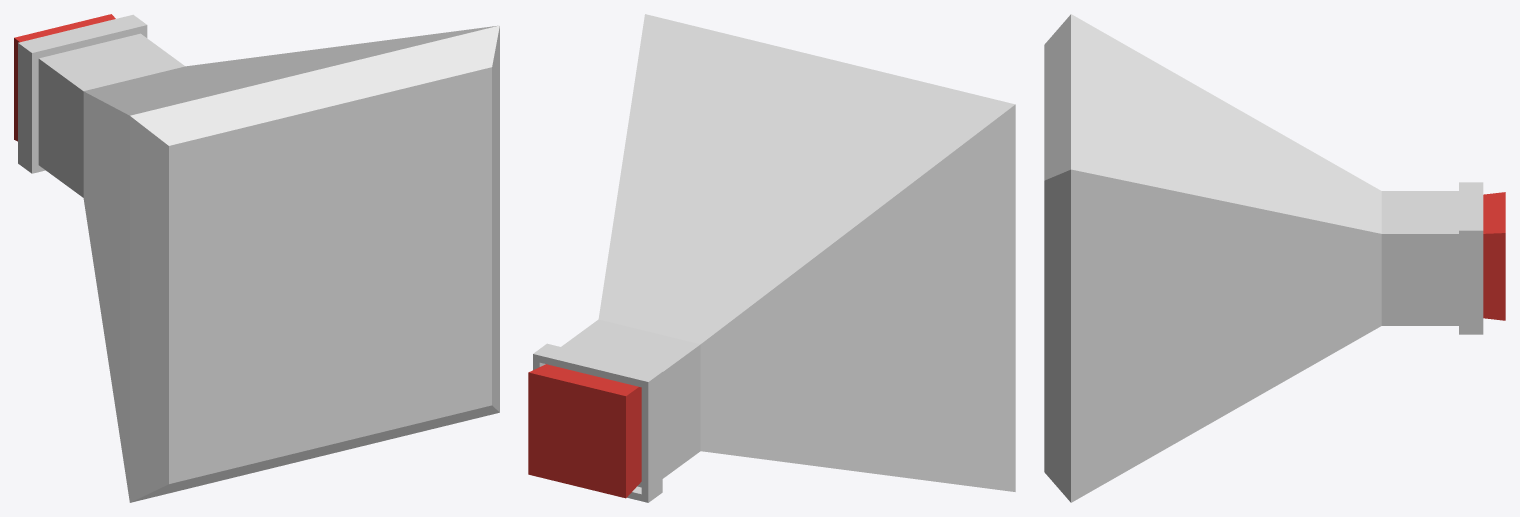
File: potion3.fbx
3 views of the same model, side by side, from view 1: azimuth 30°, elevation 25°; view 2: azimuth 150°, elevation 25°; view 3: azimuth 270°, elevation 25° (orthographic). The views are drawn at different scales.
Parts seen in each view (by area): view 1: potion3; view 2: potion3; view 3: potion3.
Boxes of the visible parts, x1,y1,x2,y2 form: potion3: (14,14,499,502); potion3: (528,14,1015,502); potion3: (1044,14,1505,502).
Bounding box in the file's own units: 120 × 120 × 150.
